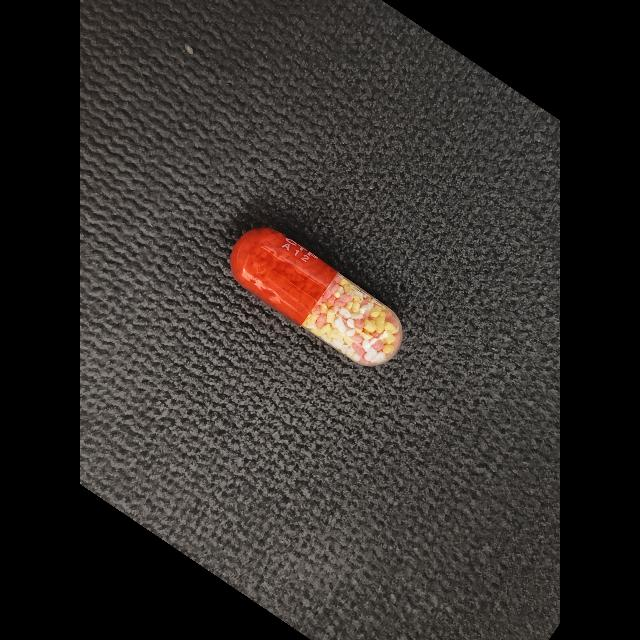Intact Capsule: (231, 228, 403, 367)
